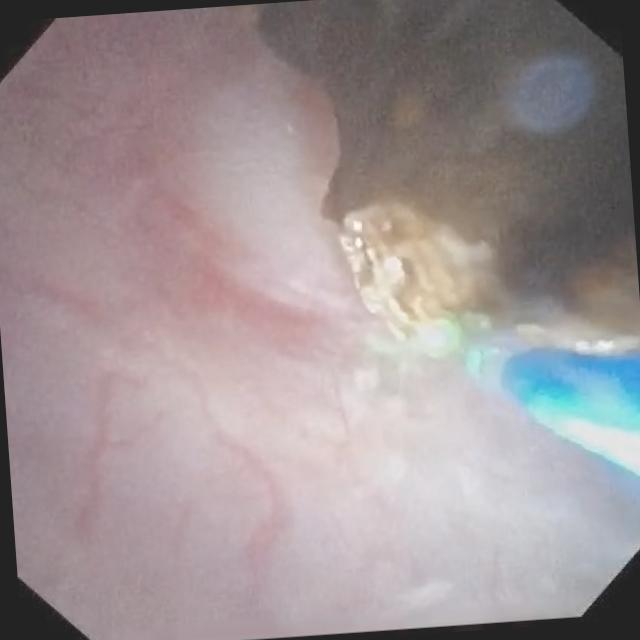laser-fibre: (466, 347, 512, 394)
laser_dot: (416, 321, 461, 357)
stone-new: (250, 0, 639, 355)
